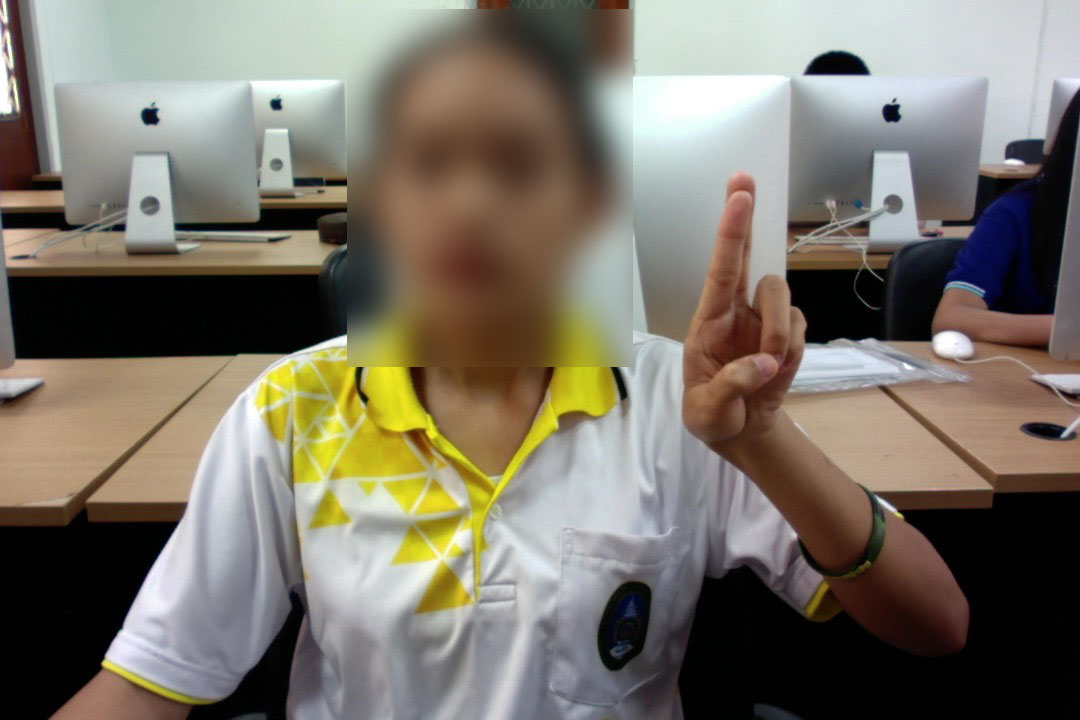rao: (680, 166, 819, 456)
